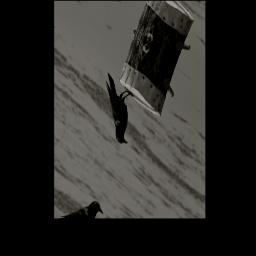Crow: (90, 69, 144, 151)
